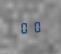zero: (19, 21, 29, 34), (30, 20, 40, 33)
